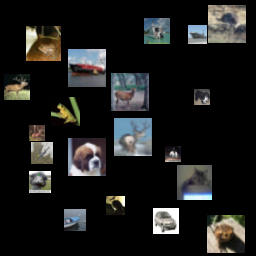airplane: (31, 142, 53, 164)
automobile: (153, 208, 179, 234)
bird: (208, 5, 246, 43), (29, 171, 51, 193), (106, 196, 125, 215)
cat: (177, 165, 212, 200)
deer: (111, 73, 149, 111), (114, 118, 152, 156), (4, 74, 30, 100), (29, 125, 45, 141)
dog: (68, 138, 106, 176), (194, 89, 210, 105)
frog: (207, 215, 245, 253), (26, 26, 61, 61), (51, 97, 80, 126)
ship: (68, 49, 106, 87), (144, 18, 170, 44), (64, 209, 86, 231), (188, 25, 207, 44)
